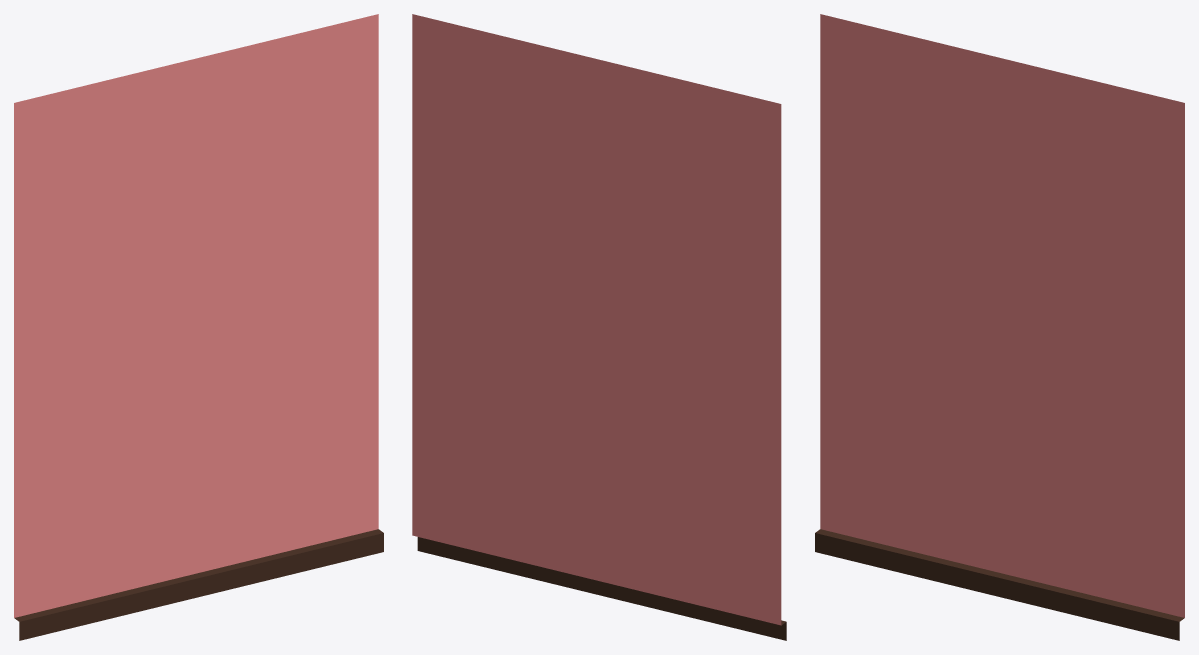
The model's file is SM_Mur_1x2.fbx.
3 renders of one model, left to right at view 1: azimuth 30°, elevation 25°; view 2: azimuth 150°, elevation 25°; view 3: azimuth 330°, elevation 25°, orthographic.
Parts seen in each view (by area): view 1: SM_Mur_1x2; view 2: SM_Mur_1x2; view 3: SM_Mur_1x2.
Boxes of the visible parts, x1,y1,x2,y2 form: SM_Mur_1x2: [14, 14, 383, 640]; SM_Mur_1x2: [412, 14, 786, 640]; SM_Mur_1x2: [815, 14, 1184, 640].
Bounding box in the file's own units: 2 × 2.8 × 0.05.
